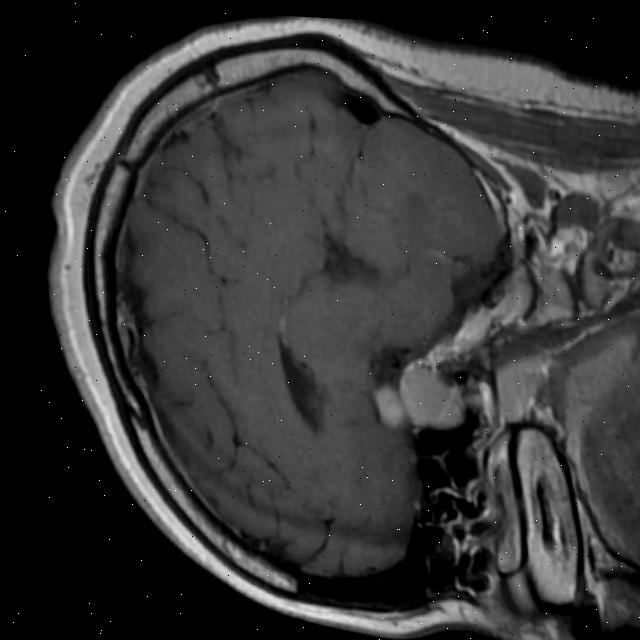Pituitary: (367, 355, 468, 435)
